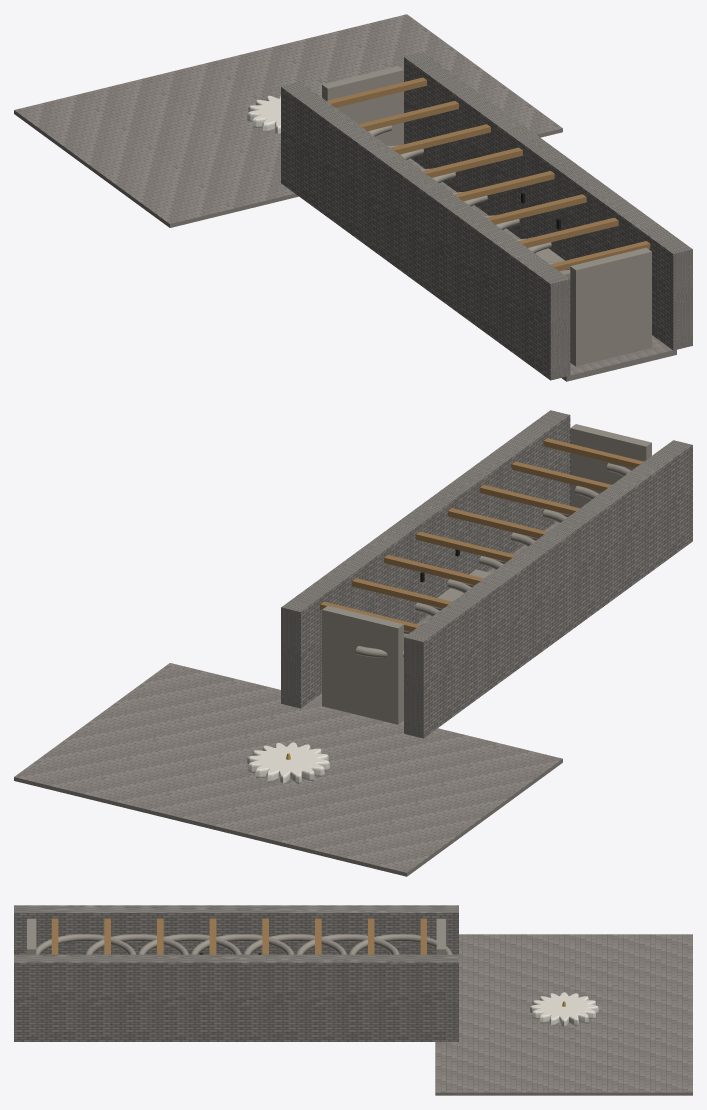
File: shaniwar-wada-interior.glb
3 views of the same model, one above another, from view 1: azimuth 30°, elevation 25°; view 2: azimuth 150°, elevation 25°; view 3: azimuth 270°, elevation 25° (orthographic). The views are drawn at different scales.
Visible parts, largest first — view 1: object 27, object 2, object 3, object 25, object 26, Walkable_Devdi_Floor, object 28, object 16, object 13, object 17, object 11, object 14 (+3 smaller); view 2: object 27, object 2, object 3, object 26, object 25, object 28, object 15, object 18, object 14, object 17, object 16, object 12 (+1 smaller); view 3: object 3, object 27, object 2, object 28, object 10, object 8, object 5, object 6, object 9, object 7, object 4, object 25 (+1 smaller).
Part boxes in pixels (box(x1,y1,x2,y2)): object 27: box(14, 14, 562, 227); object 2: box(281, 82, 570, 380); object 3: box(404, 52, 692, 350); object 25: box(570, 247, 651, 366); object 26: box(322, 66, 403, 145); Walkable_Devdi_Floor: box(407, 158, 676, 381); object 28: box(247, 95, 280, 135); object 16: box(486, 194, 586, 224); object 13: box(390, 124, 490, 154); object 17: box(518, 217, 618, 247); object 11: box(327, 77, 426, 107); object 14: box(422, 147, 522, 177); object 27: box(14, 663, 562, 876); object 2: box(404, 440, 692, 738); object 3: box(281, 410, 570, 708); object 26: box(322, 605, 403, 724); object 25: box(570, 424, 651, 507); object 28: box(247, 742, 329, 784); object 15: box(447, 508, 547, 538); object 18: box(543, 438, 643, 468); object 14: box(415, 531, 515, 561); object 17: box(511, 461, 611, 491); object 16: box(479, 484, 579, 514); object 12: box(352, 578, 451, 608); object 3: box(14, 954, 458, 1041); object 27: box(435, 934, 692, 1095); object 2: box(14, 905, 458, 954); object 28: box(530, 992, 598, 1027); object 10: box(36, 934, 136, 954); object 8: box(137, 934, 241, 954); object 5: box(295, 934, 399, 954); object 6: box(243, 934, 346, 954); object 9: box(85, 934, 188, 954); object 7: box(190, 934, 294, 954); object 4: box(348, 934, 452, 954); object 25: box(27, 918, 36, 954).
Size of the model in its own units: 32 by 7.9 by 58.
Materials: 7 (2 with a texture image).
